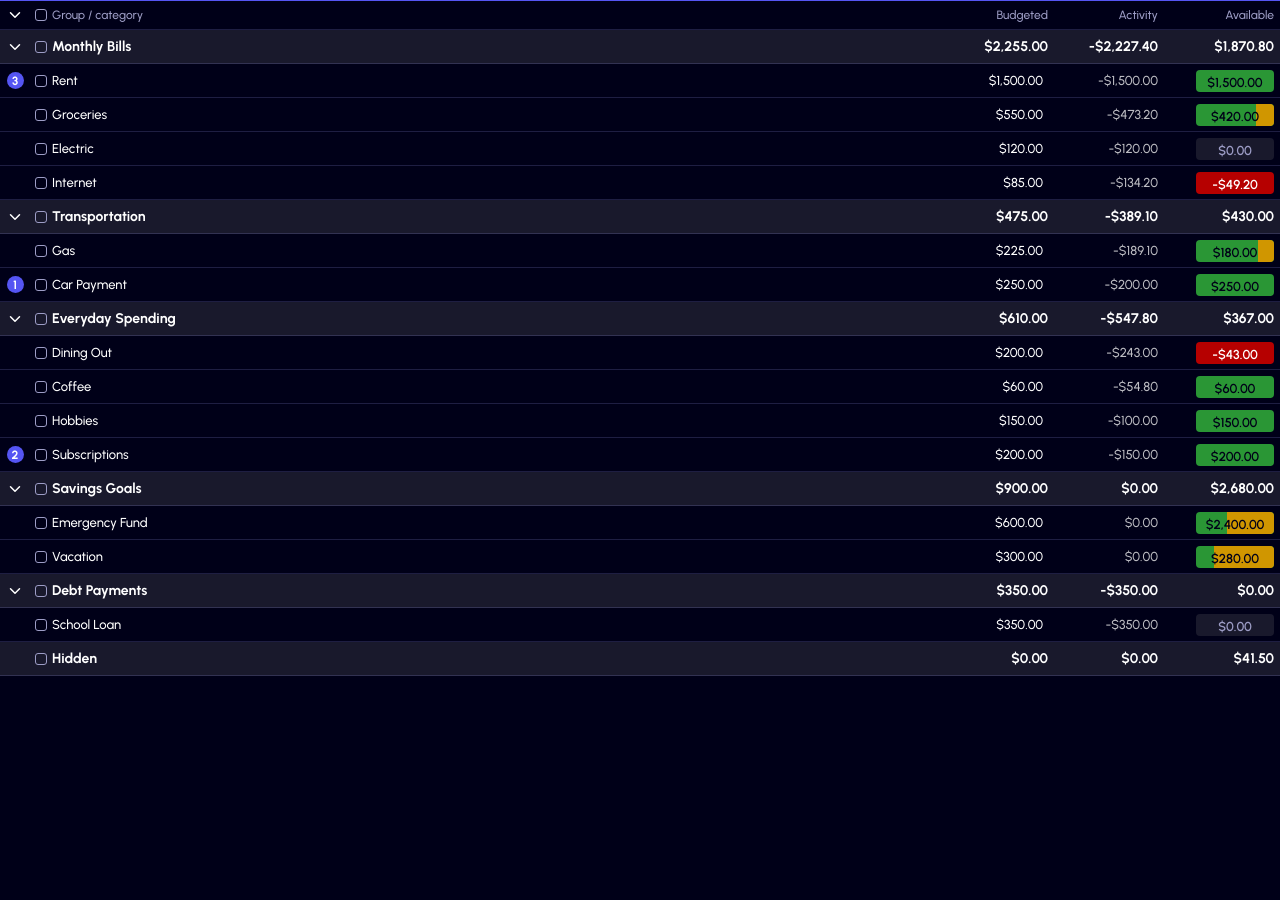
Test: BudgetTable › collapsing a group hides its categories, and expanding brings them back
This screenshot has width=1280, height=900.
Click the button named "Collapse Monthly Bills".
click(15, 46)  # box [6, 37, 24, 56]
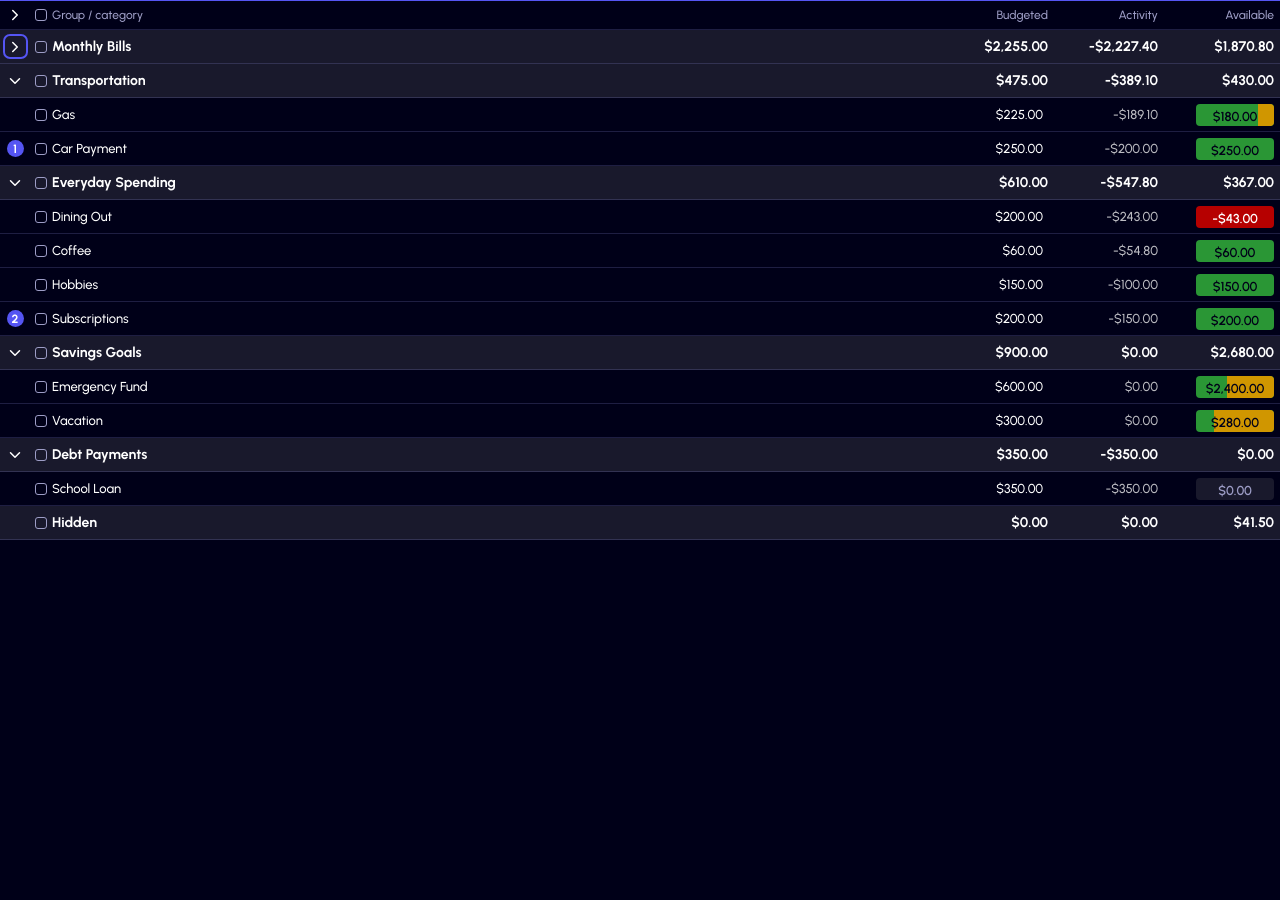
Expected: the text "Gas" is shown, [52, 107, 75, 122]
Expected: the text "Rent" is gone
Click the button named "Expand Monthly Bills".
click(15, 46)  # box [6, 37, 24, 56]
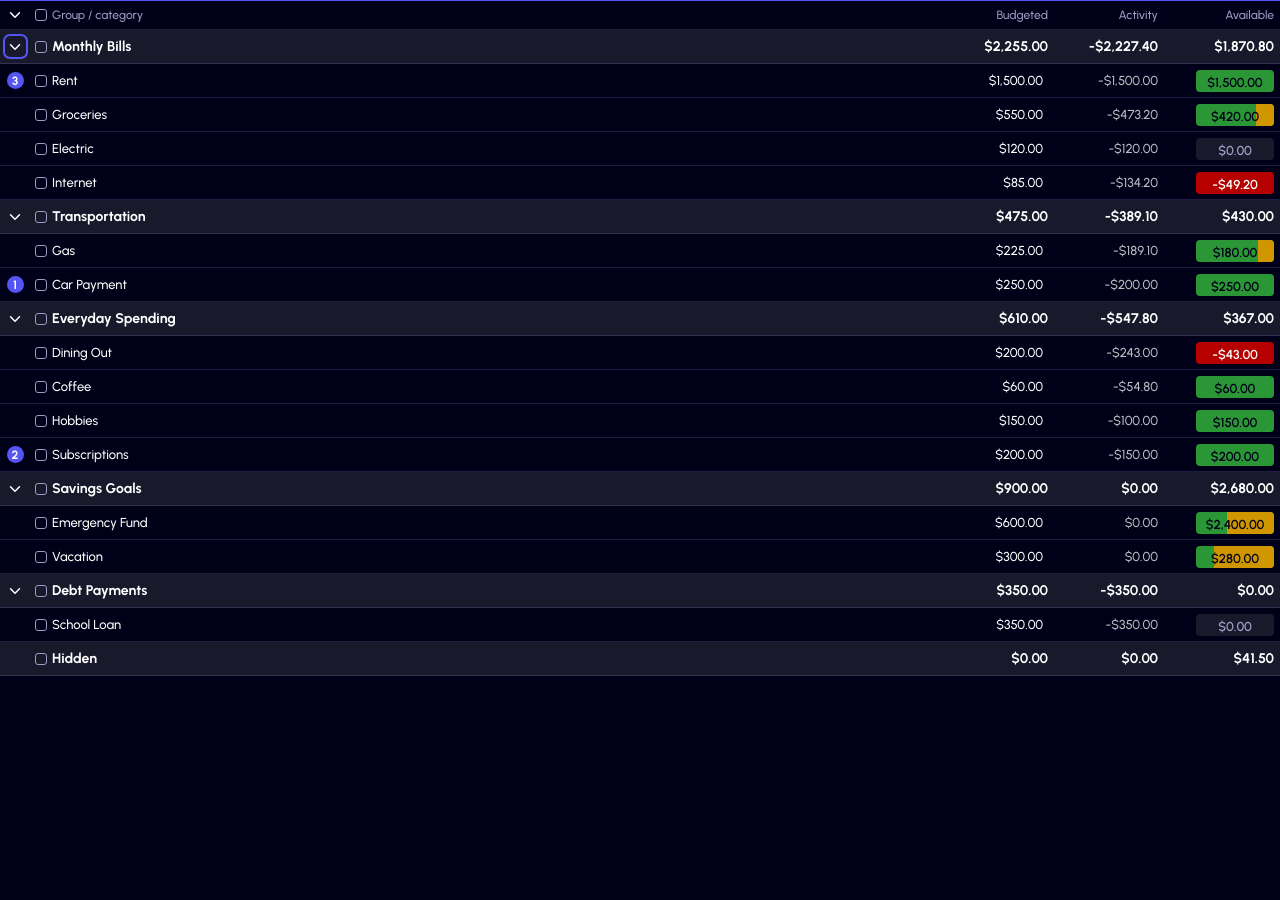
Expected: the text "Rent" is shown, [52, 73, 78, 88]
